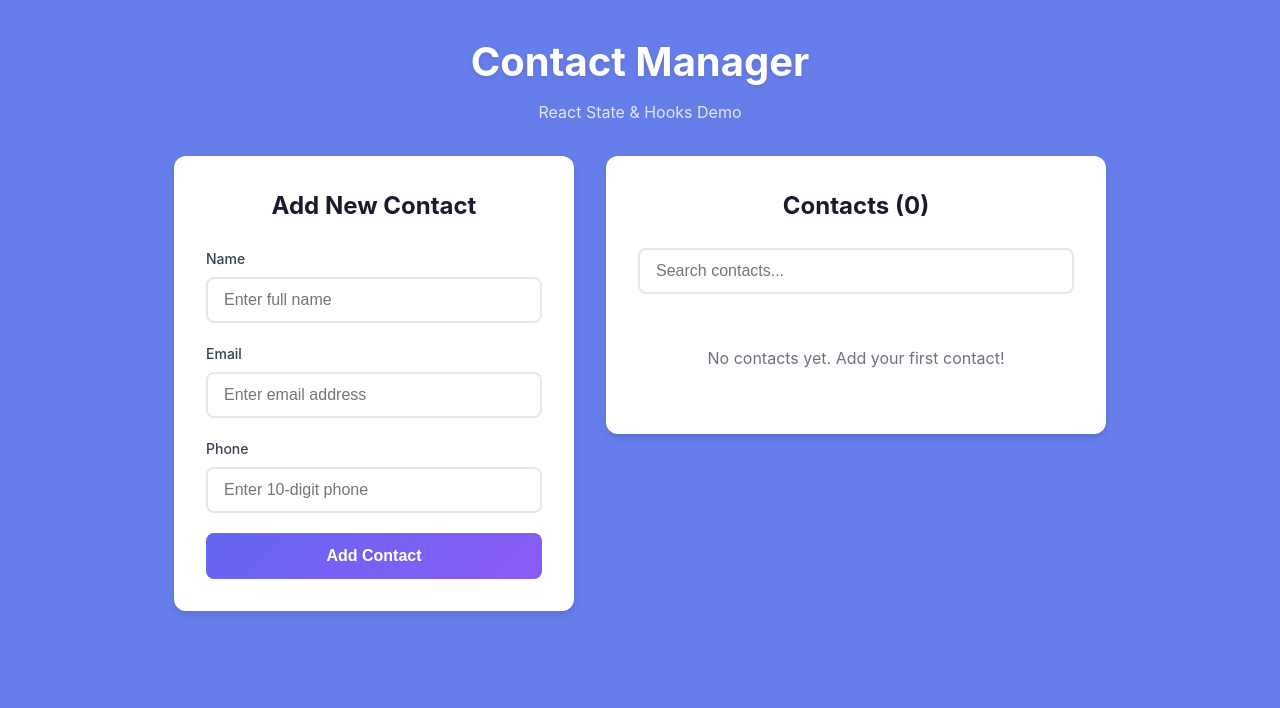
Scenario: App › adds a contact and displays it in the list
This screenshot has width=1280, height=708.
Type "Test User" into the field labelled "Name" at coordinates (374, 300), box [206,277,542,323]
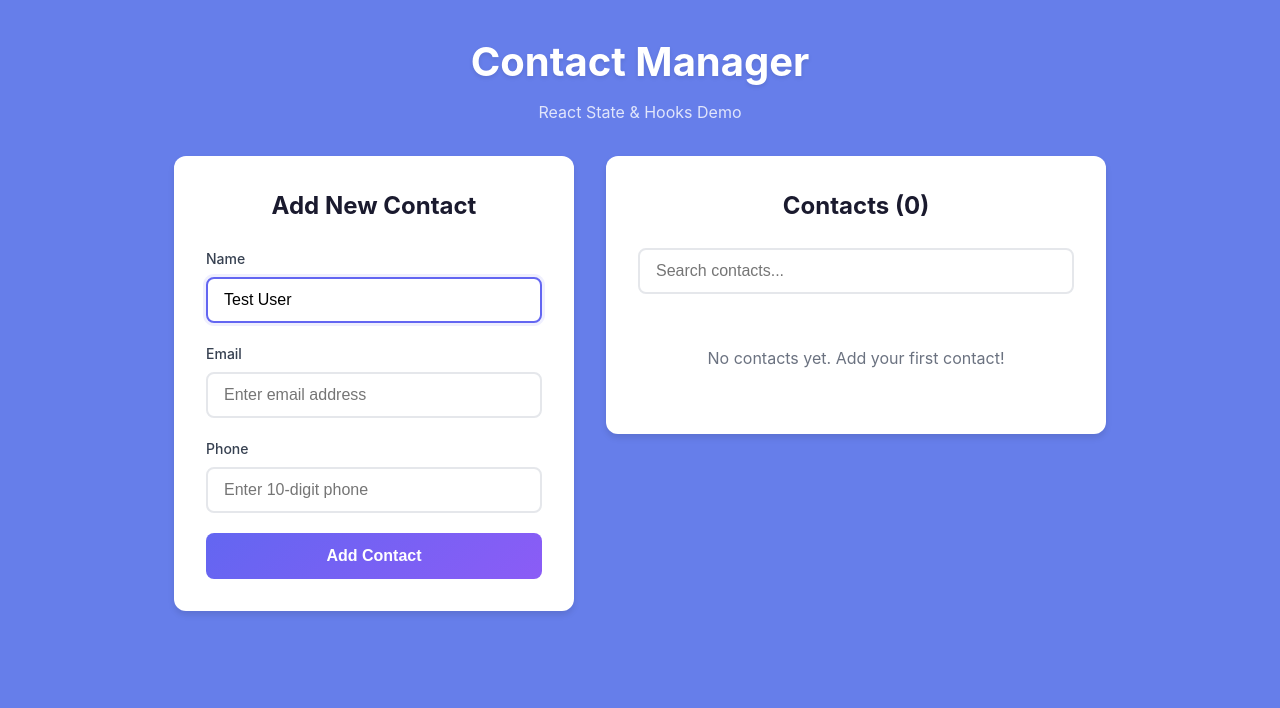
Type "test@example.com" into the field labelled "Email" at coordinates (374, 395), box [206,372,542,418]
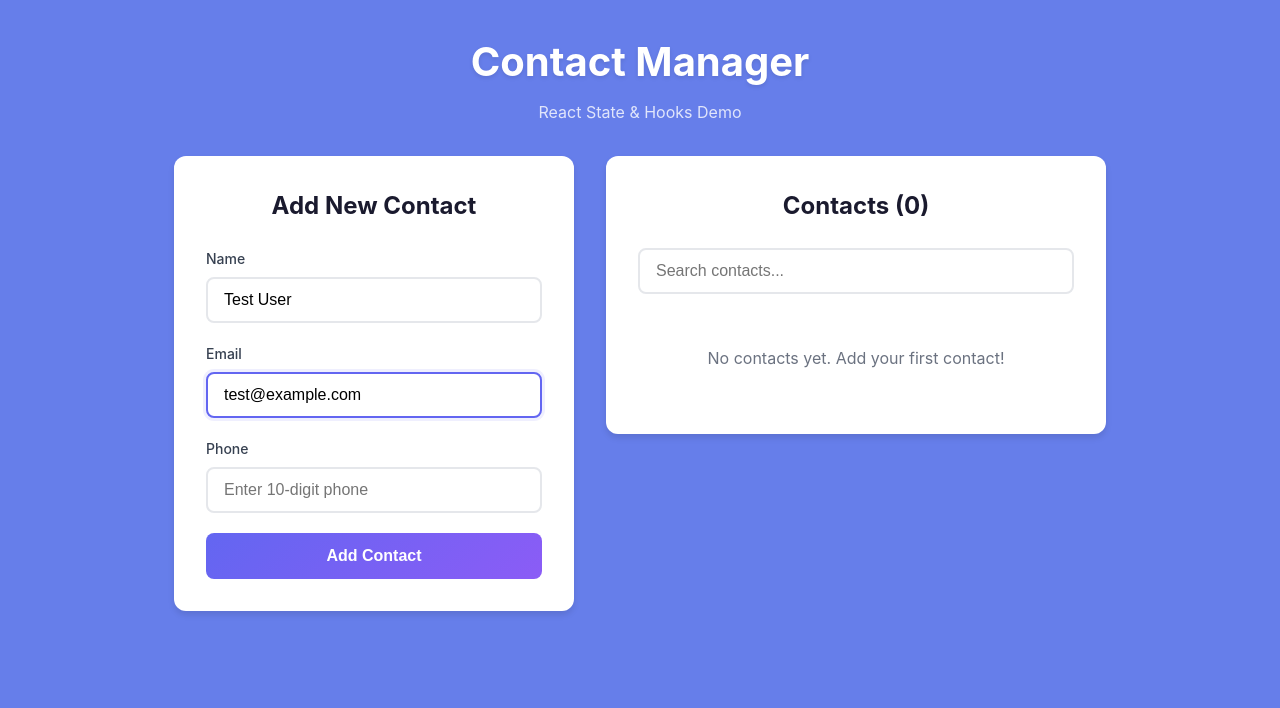
Type "1234567890" into the field labelled "Phone" at coordinates (374, 490), box [206,467,542,513]
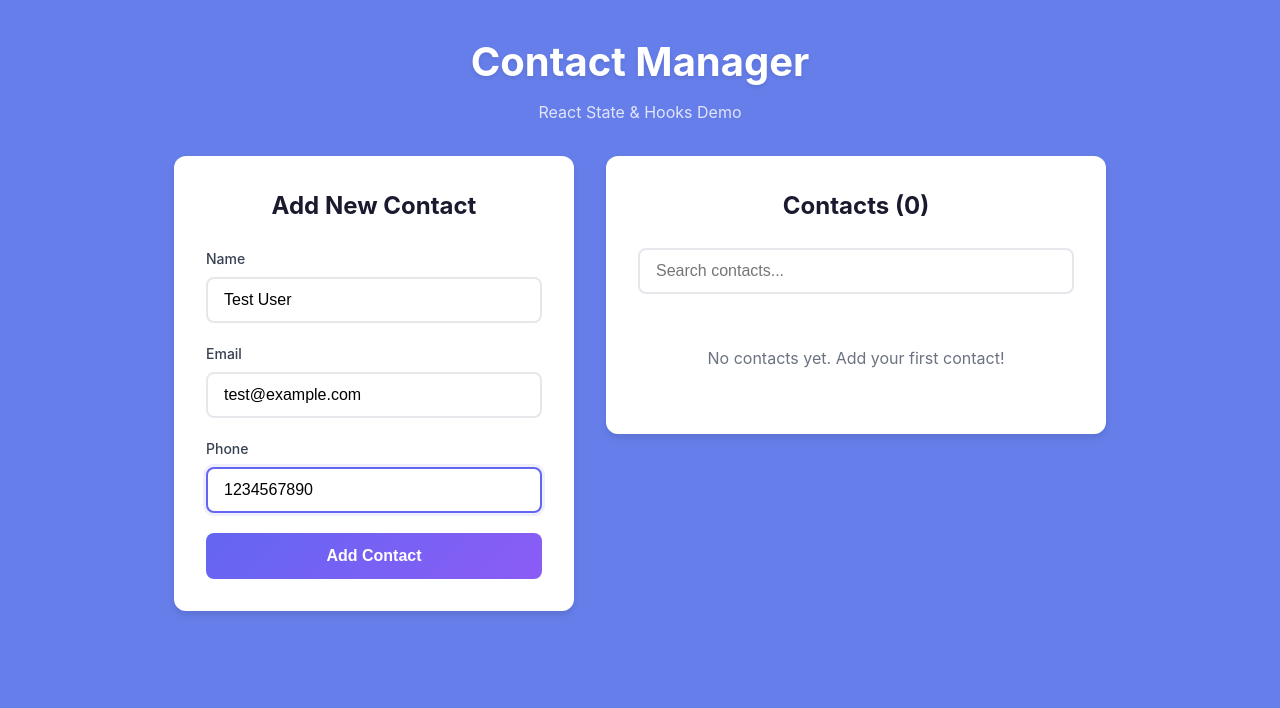
Click the button "Add Contact" at coordinates (374, 556), box [206,533,542,579]
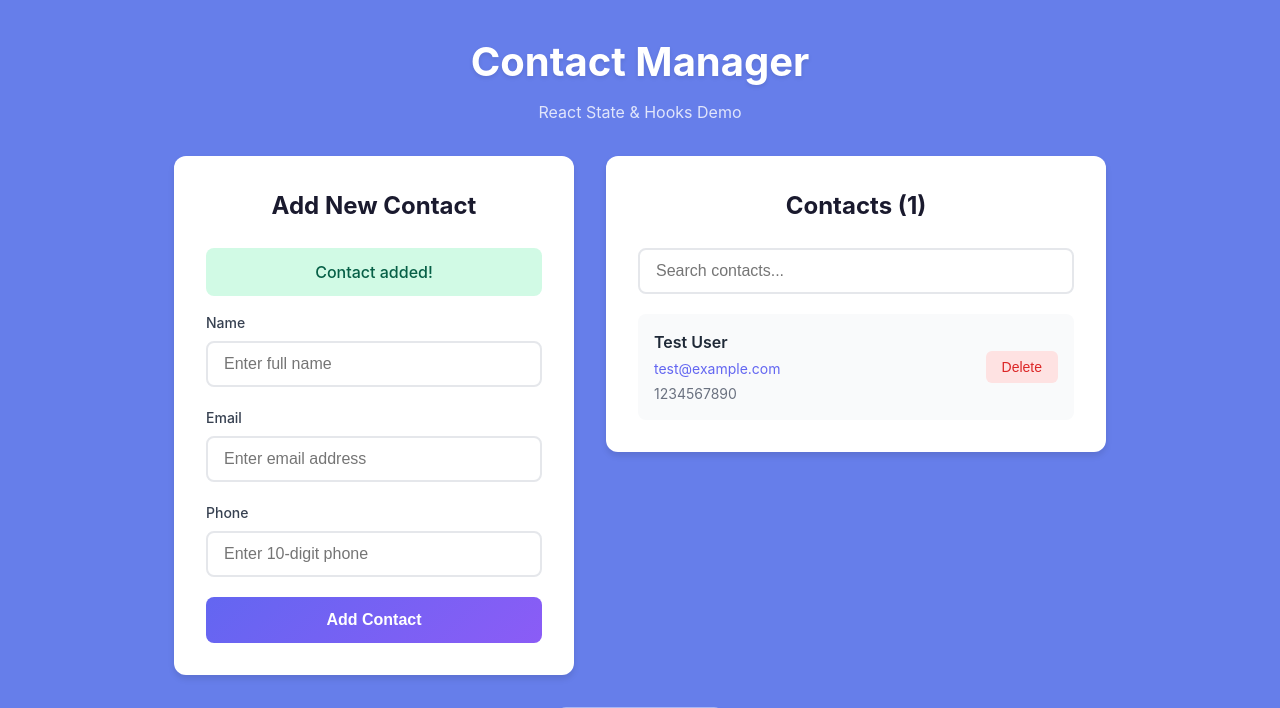
Check: the text "Test User" is shown, box [654,332,728,352]
Check: the text "test@example.com" is shown, box [654,358,780,379]
Check: the text "1234567890" is shown, box [654,385,737,402]
